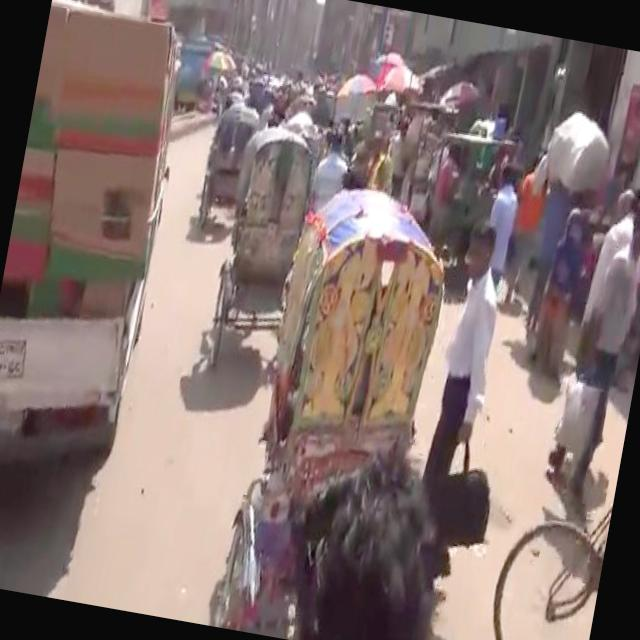motorcycle: (211, 165, 465, 640), (200, 108, 324, 402), (194, 96, 266, 241)
truck: (0, 177, 167, 490)
